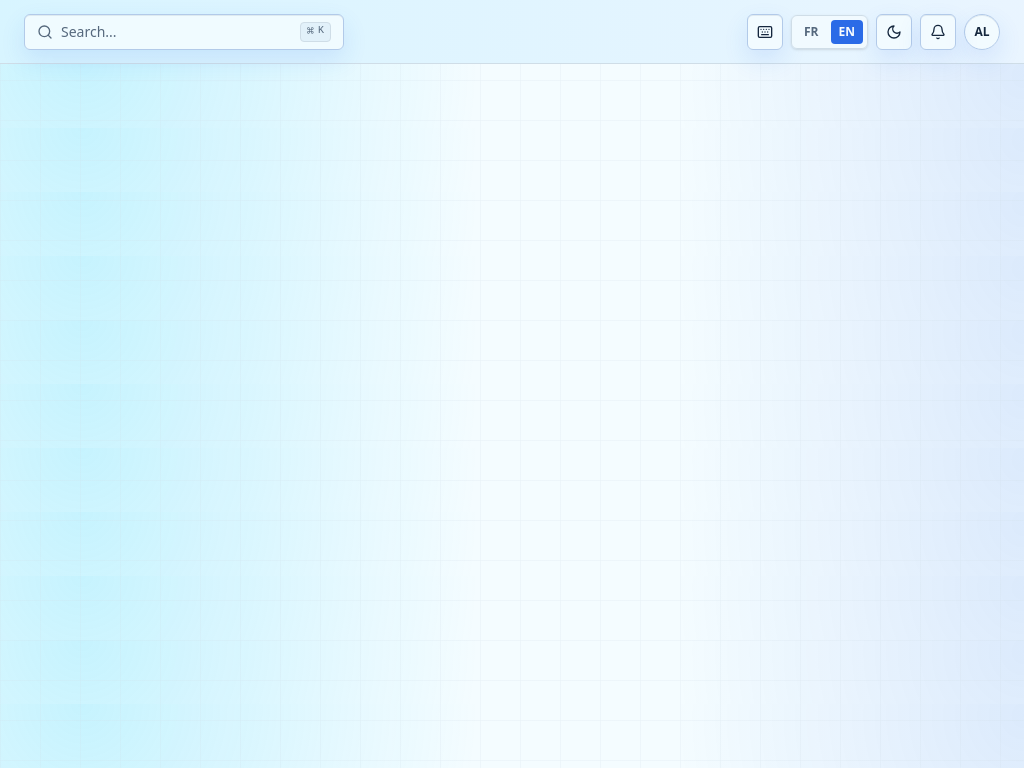
it: Header user menu › opens the dropdown and shows the profile link
Step 1. Click the button with aria-label "user menu" → (982, 32), box [964,14,1000,50]
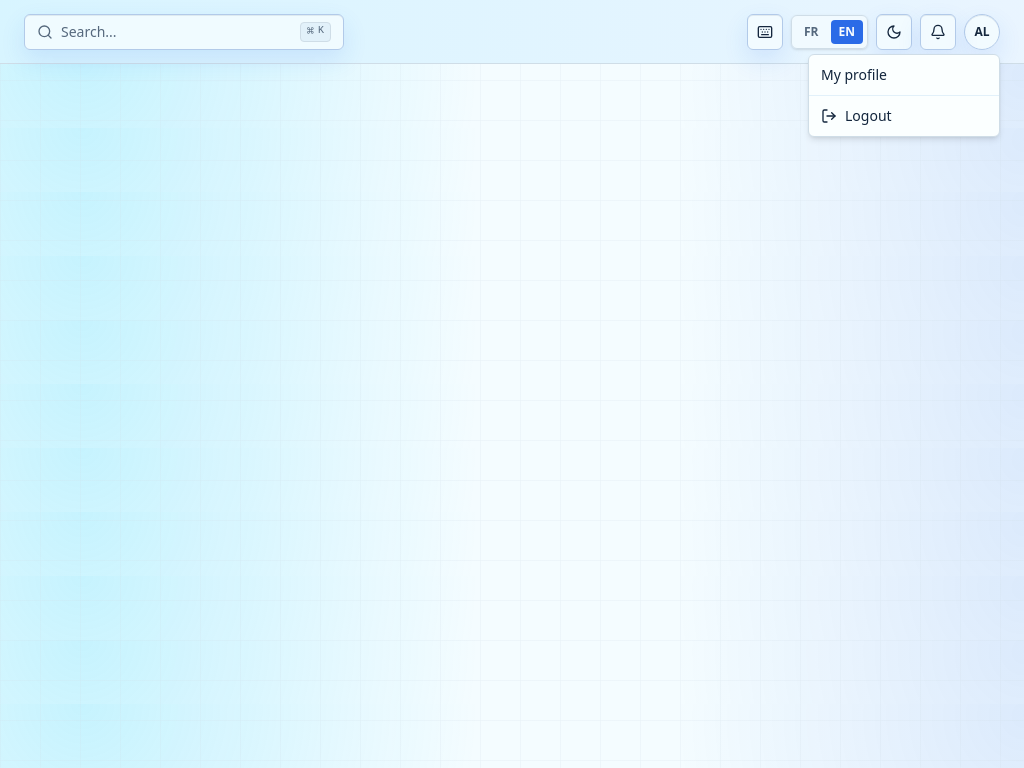
Expected: the menu item "My profile" is shown, [821,65,887,84]
